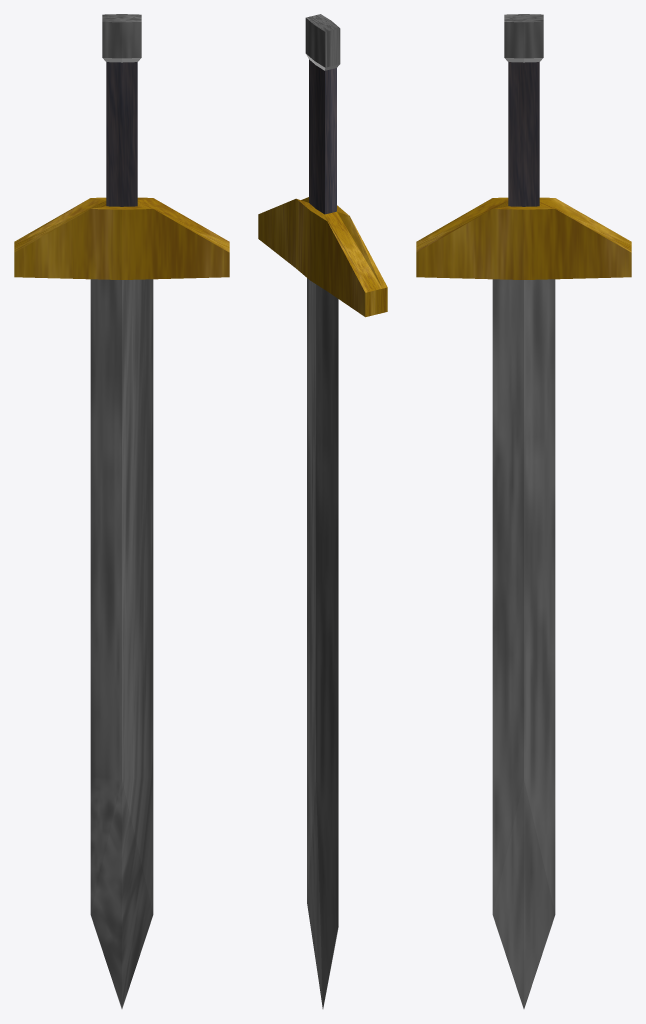
Rendered from heaven_sword.obj.
3 views of the same model, side by side, from view 1: azimuth 90°, elevation 25°; view 2: azimuth 210°, elevation 25°; view 3: azimuth 270°, elevation 25° (orthographic).
Visible parts, largest first — view 1: Cube; view 2: Cube; view 3: Cube.
Boxes of the visible parts, x1,y1,x2,y2 form: Cube: (14, 14, 229, 1008); Cube: (258, 14, 387, 1009); Cube: (416, 14, 631, 1008).
Size of the model in its own units: 1.46 by 53.49 by 10.53.
